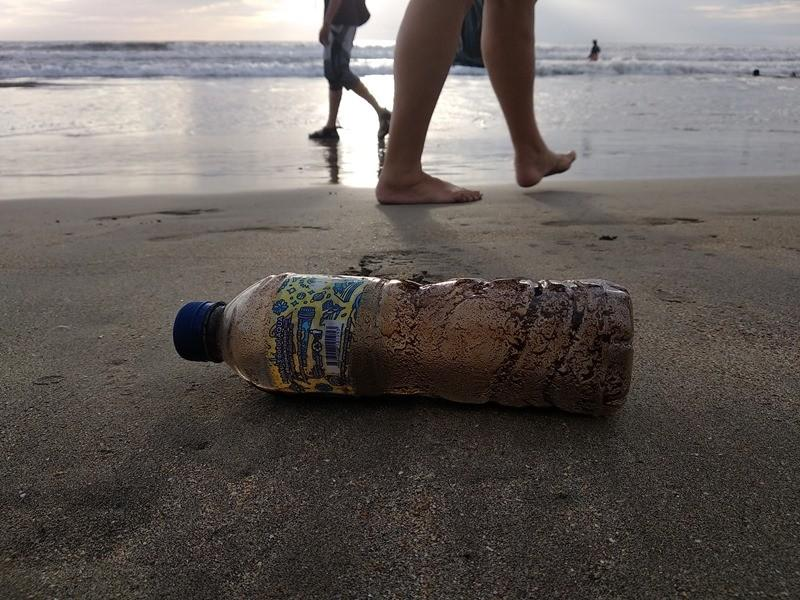Plastic: (155, 268, 642, 419)
